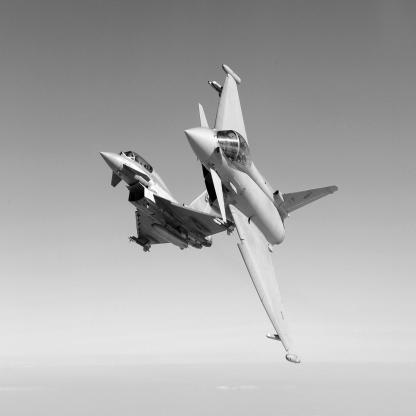EF2000: (185, 65, 339, 365), (100, 151, 237, 254)
